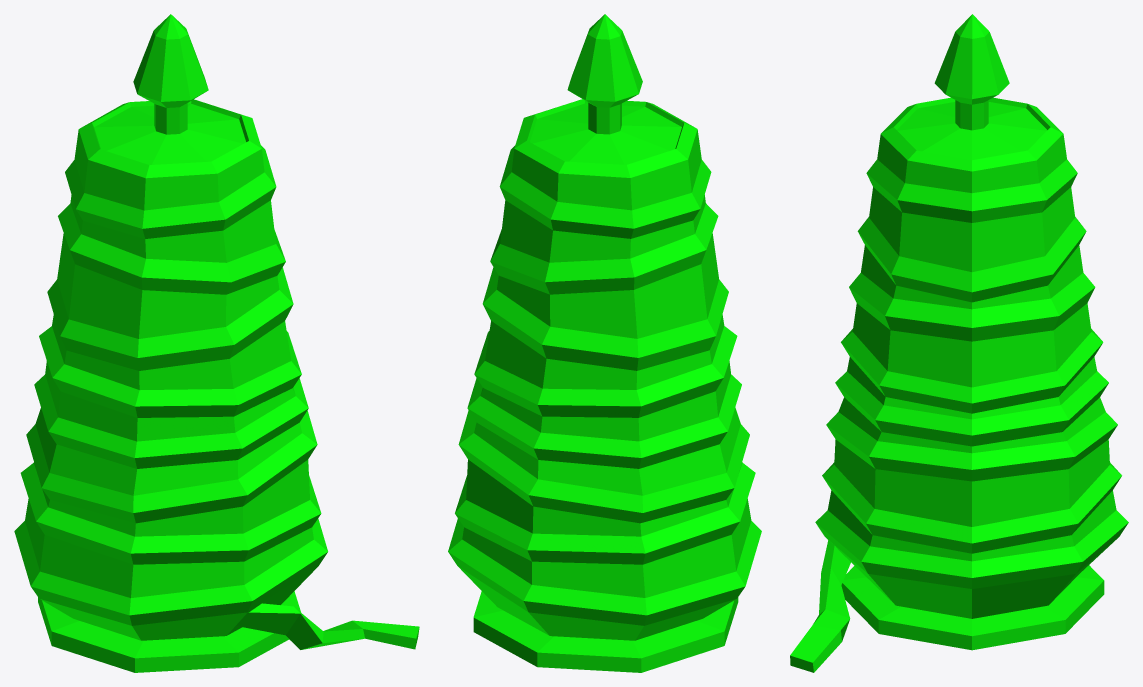
File: SM_Spool_Ribbon_Small.fbx
3 renders of one model, left to right at view 1: azimuth 30°, elevation 25°; view 2: azimuth 150°, elevation 25°; view 3: azimuth 270°, elevation 25°, orthographic. The views are drawn at different scales.
Visible parts, largest first — view 1: spool-ribbon-small; view 2: spool-ribbon-small; view 3: spool-ribbon-small.
Part boxes in pixels (x1=…): spool-ribbon-small: x1=14, y1=14, x2=419, y2=672; spool-ribbon-small: x1=448, y1=14, x2=761, y2=672; spool-ribbon-small: x1=790, y1=14, x2=1128, y2=672.
Bounding box in the file's own units: 0.1221 × 0.2299 × 0.1215.
